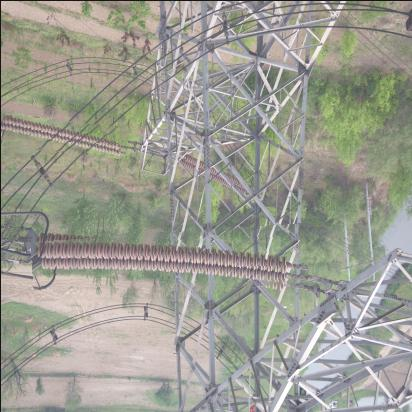insulator: (31, 227, 308, 297), (1, 118, 128, 156)
